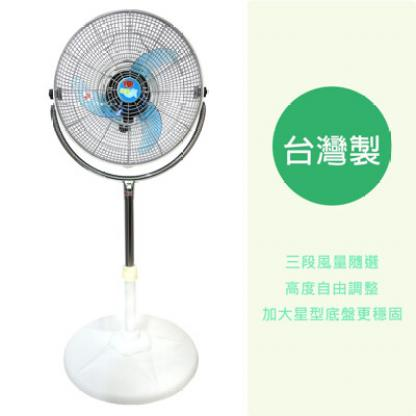fan: (43, 6, 218, 408)
